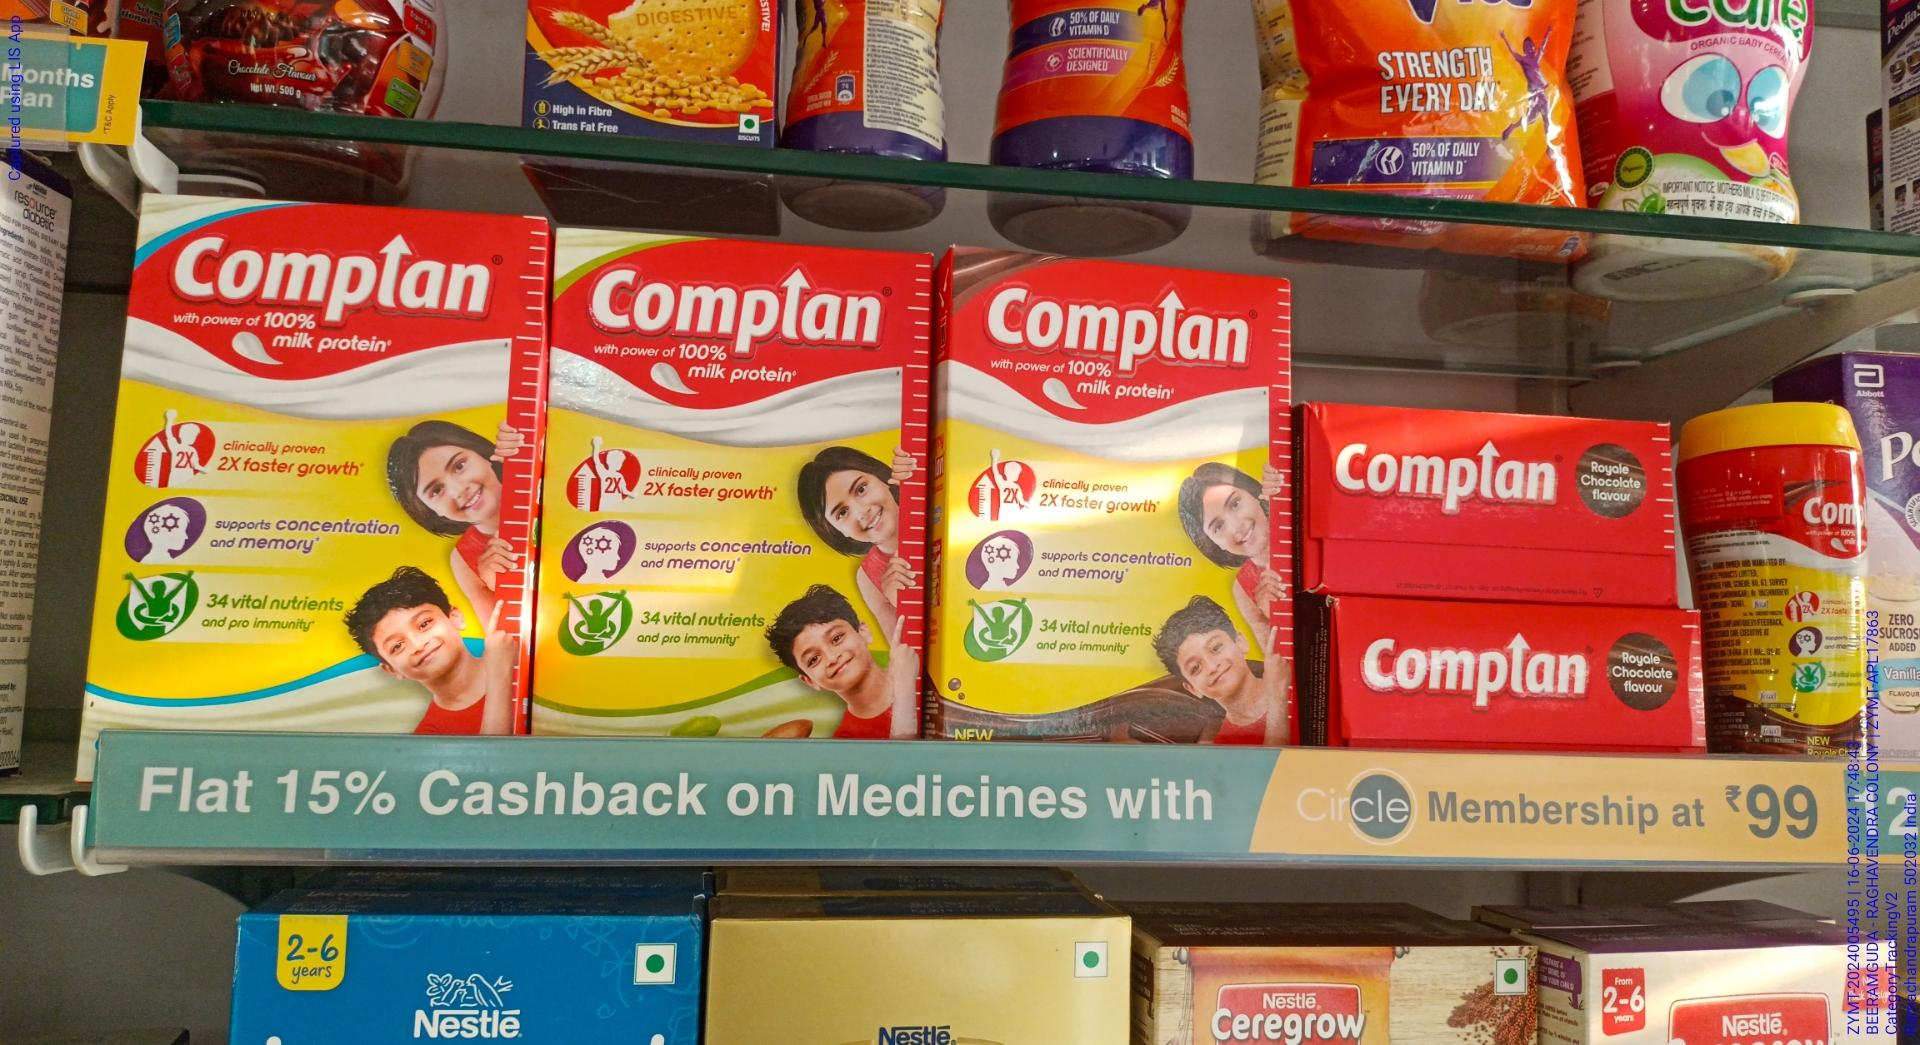COMPLAN_CHOCOLATE_500_GMS_PACK: (952, 246, 1287, 757)
COMPLAN_CREAMY_CLASSIC_500_G_PACK: (122, 190, 526, 728)
COMPLAN_PISTA_BADAM_500_GMS_PACK: (556, 229, 925, 750)
